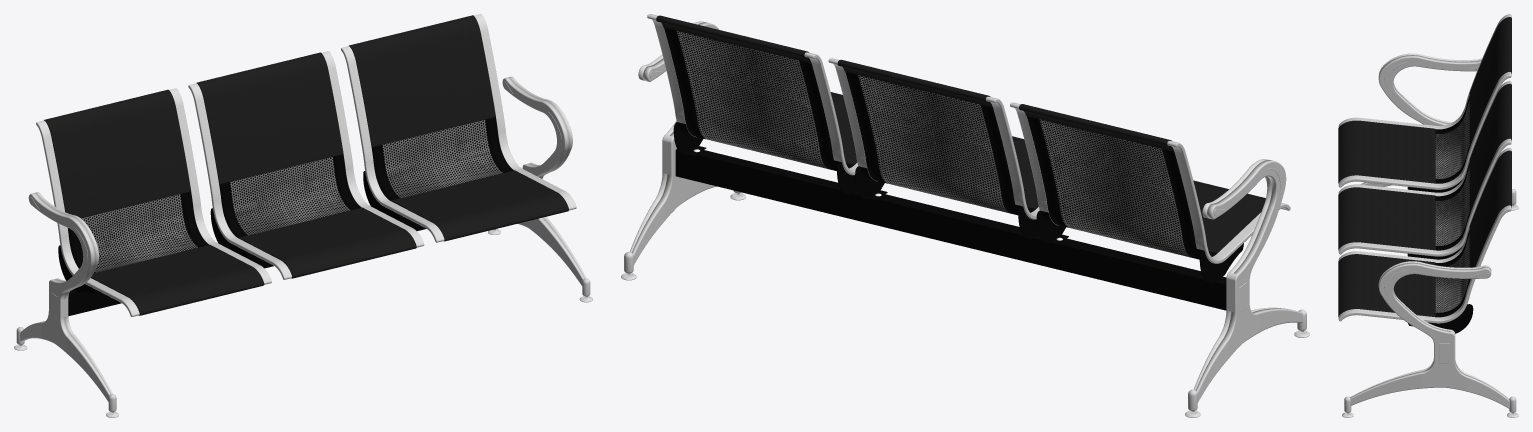
The model's file is kursi tunggu 5.fbx.
3 views of the same model, side by side, from view 1: azimuth 30°, elevation 25°; view 2: azimuth 150°, elevation 25°; view 3: azimuth 270°, elevation 25° (orthographic). The views are drawn at different scales.
Parts seen in each view (by area): view 1: Group#1.002, Group#1.001, Group#1, Component#2.002, Component#2.001, Component#2, Component#11, Component#11.003, Group#4.002, Group#4.004, Group#4, Group#4.003 (+10 smaller); view 2: Component#6, Component#2, Component#2.001, Component#2.002, Component#11, Group#1, Group#1.002, Group#1.001, Component#11.003, Group#4, Component#11.001, Group#4.004 (+15 smaller); view 3: Group#1, Group#1.001, Group#1.002, Component#11.002, Component#11.001, Component#2, Component#2.001, Group#4.003, Group#4.001, Group#4.005, Component#2.002, Group#4.002 (+12 smaller).
Part boxes in pixels (<box>): Group#1.002: <box>349,15,568,241</box>; Group#1.001: <box>196,52,416,278</box>; Group#1: <box>44,89,264,315</box>; Component#2.002: <box>382,120,502,197</box>; Component#2.001: <box>230,157,350,235</box>; Component#2: <box>81,194,198,272</box>; Component#11: <box>20,193,110,401</box>; Component#11.003: <box>502,77,584,285</box>; Group#4.002: <box>188,83,291,279</box>; Group#4.004: <box>341,46,444,242</box>; Group#4: <box>36,120,139,316</box>; Group#4.003: <box>322,51,424,247</box>; Component#6: <box>675,149,1226,310</box>; Component#2: <box>1039,119,1191,257</box>; Component#2.001: <box>858,75,1010,213</box>; Component#2.002: <box>676,31,828,169</box>; Component#11: <box>1195,160,1302,402</box>; Group#1: <box>1019,104,1265,253</box>; Group#1.002: <box>656,15,857,164</box>; Group#1.001: <box>837,59,1038,209</box>; Component#11.003: <box>632,22,719,265</box>; Group#4: <box>1167,140,1290,263</box>; Component#11.001: <box>1193,159,1288,390</box>; Group#4.004: <box>804,52,857,175</box>; Group#1: <box>1338,17,1511,183</box>; Group#1.001: <box>1338,83,1511,250</box>; Group#1.002: <box>1338,150,1511,317</box>; Component#11.002: <box>1350,262,1509,408</box>; Component#11.001: <box>1361,55,1481,186</box>; Component#2: <box>1435,100,1469,179</box>; Component#2.001: <box>1435,167,1469,245</box>; Group#4.003: <box>1338,138,1511,256</box>; Group#4.001: <box>1338,72,1511,189</box>; Group#4.005: <box>1338,205,1511,323</box>; Component#2.002: <box>1435,234,1469,312</box>; Group#4.002: <box>1338,80,1511,196</box>.
Bounding box in the file's own units: 181 × 79.95 × 65.09.
8 materials, 2 textured.
